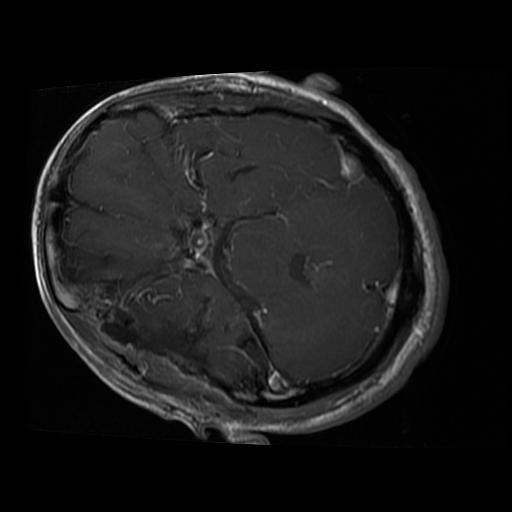glioma: (98, 266, 267, 401)
